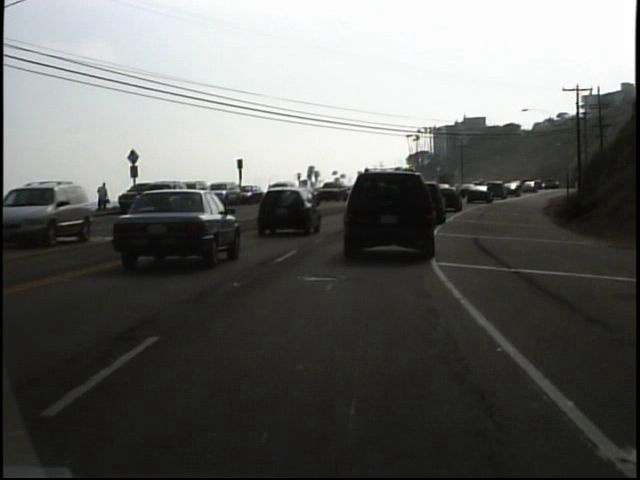person: (95, 178, 113, 217)
